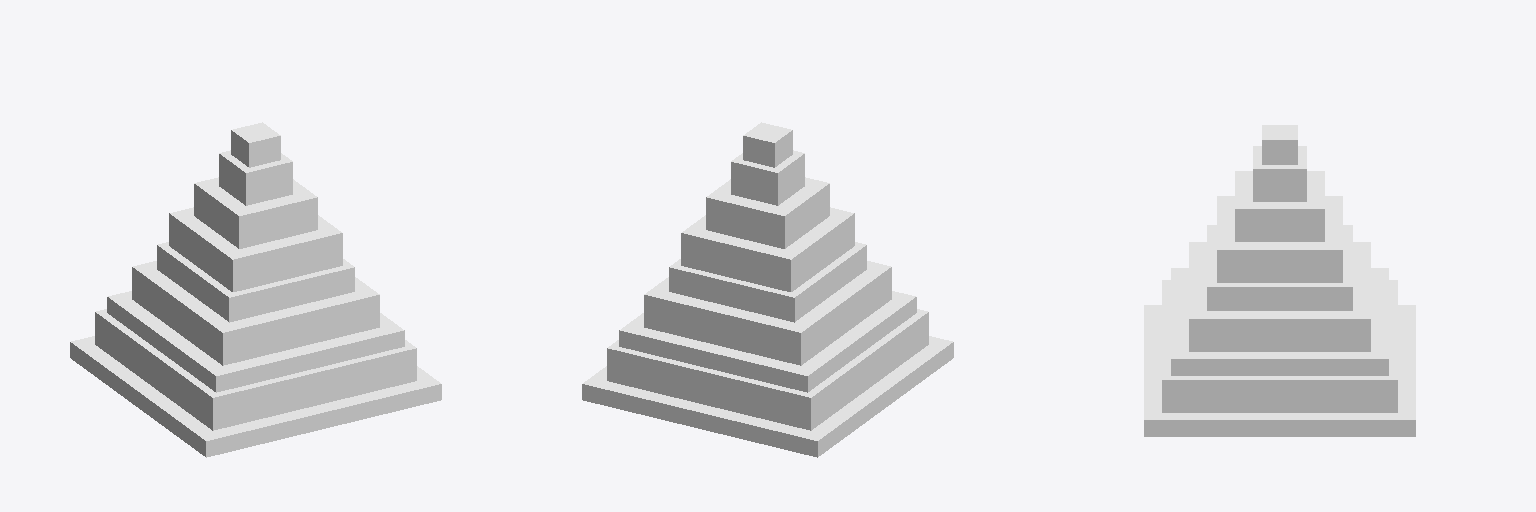
The model's file is obstacle3-0-spike1.obj.
3 views of the same model, side by side, from view 1: azimuth 30°, elevation 25°; view 2: azimuth 150°, elevation 25°; view 3: azimuth 270°, elevation 25° (orthographic).
Visible parts, largest first — view 1: spike1; view 2: spike1; view 3: spike1.
Boxes of the visible parts, x1=… form: spike1: x1=70, y1=122, x2=441, y2=457; spike1: x1=582, y1=122, x2=953, y2=457; spike1: x1=1144, y1=125, x2=1415, y2=436.
Bounding box in the file's own units: 3 × 3 × 3.